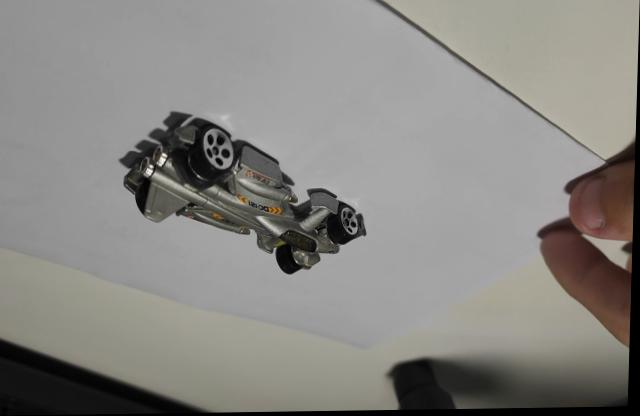05_DC121: (120, 109, 369, 274)
